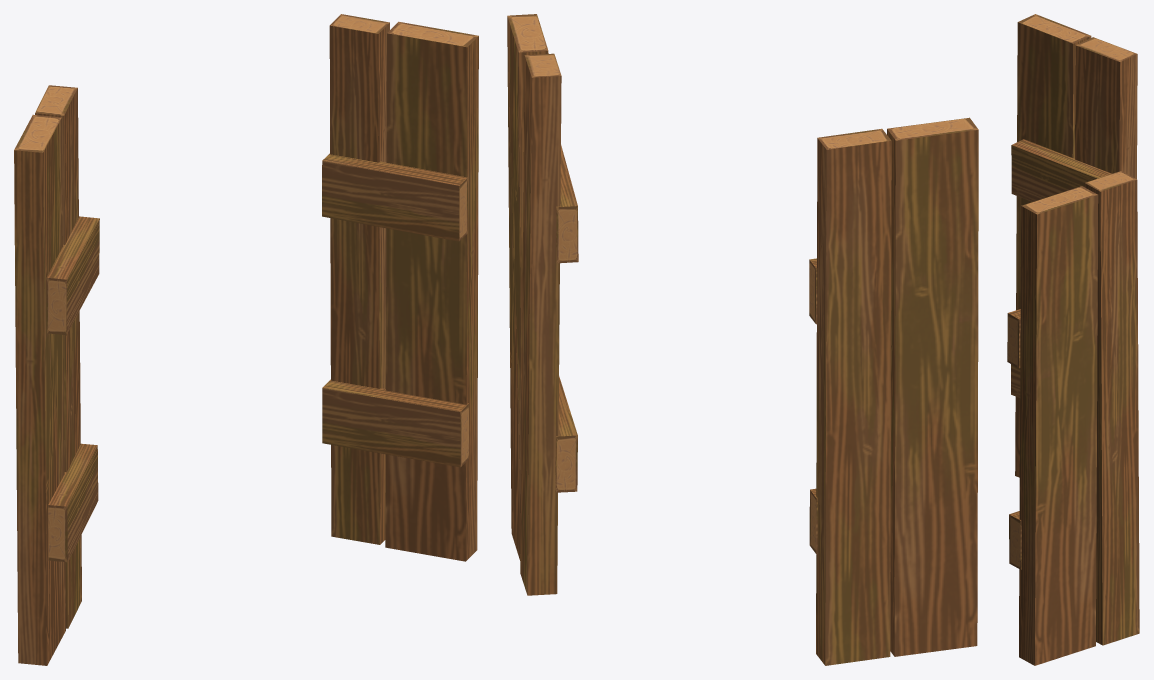
The model's file is WindowShutters_Thin_Flat_Open.gltf.
3 renders of one model, left to right at view 1: azimuth 30°, elevation 25°; view 2: azimuth 150°, elevation 25°; view 3: azimuth 270°, elevation 25°, orthographic. The views are drawn at different scales.
Parts seen in each view (by area): view 1: WindowShutters_Thin_Flat_Open; view 2: WindowShutters_Thin_Flat_Open; view 3: WindowShutters_Thin_Flat_Open.
Part boxes in pixels (<box>): WindowShutters_Thin_Flat_Open: <box>14,14,478,665</box>; WindowShutters_Thin_Flat_Open: <box>507,14,978,665</box>; WindowShutters_Thin_Flat_Open: <box>1007,14,1139,665</box>.
Bounding box in the file's own units: 1.35 × 1.42 × 0.3771.
Materials: 1 (1 with a texture image).
